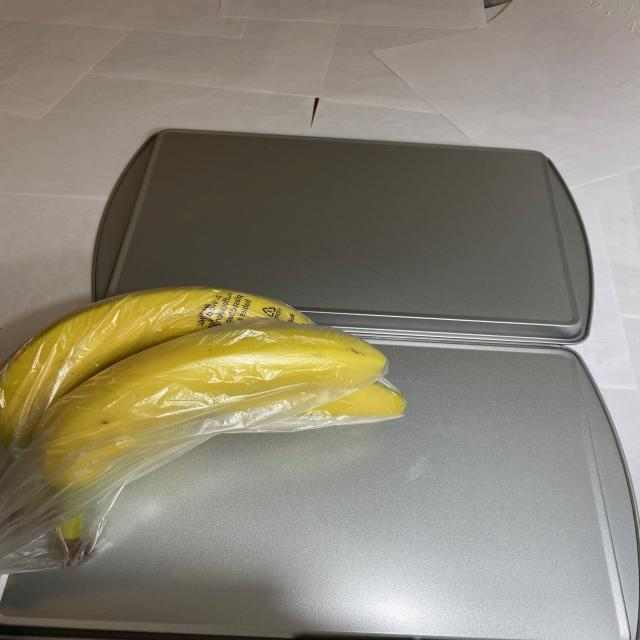banana: (6, 278, 412, 581)
